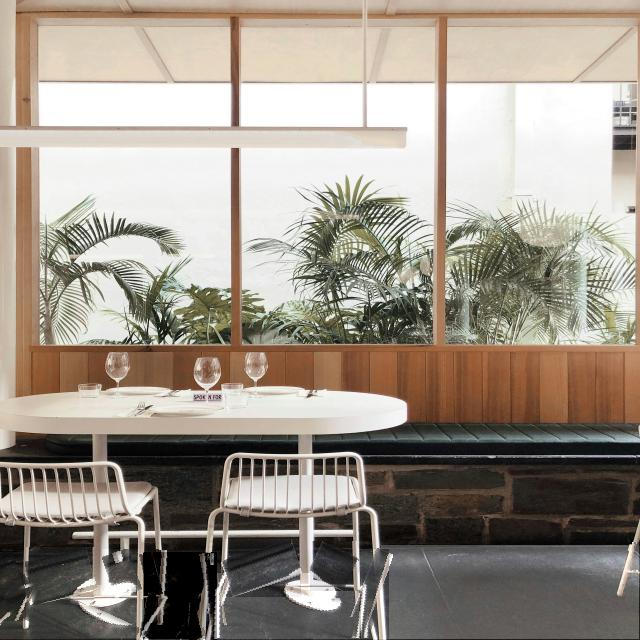floor: (381, 545, 639, 639), (208, 574, 359, 639), (0, 586, 139, 639), (143, 552, 209, 639), (225, 540, 301, 597), (26, 548, 94, 605), (362, 549, 389, 639), (311, 542, 358, 591), (0, 553, 26, 621), (103, 550, 142, 591), (141, 553, 163, 598), (206, 552, 217, 640), (140, 599, 161, 638), (189, 593, 203, 640), (1, 606, 23, 624), (357, 613, 364, 640), (633, 543, 639, 571), (210, 553, 214, 565)
